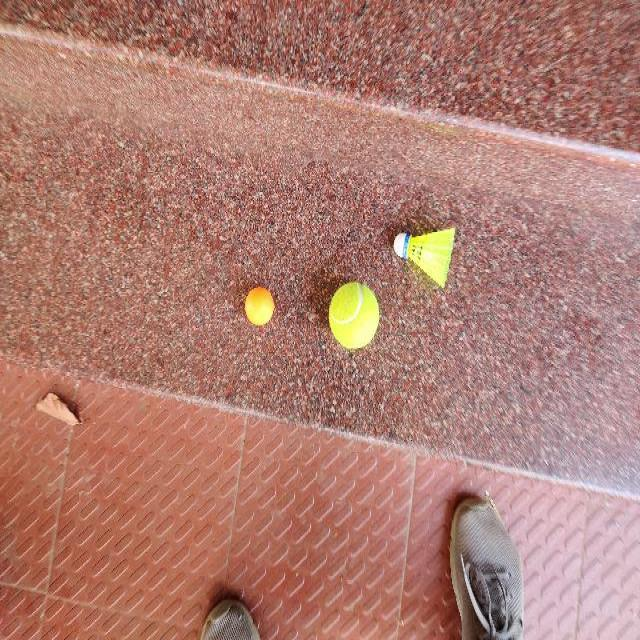tennis-ball: (329, 281, 380, 347)
